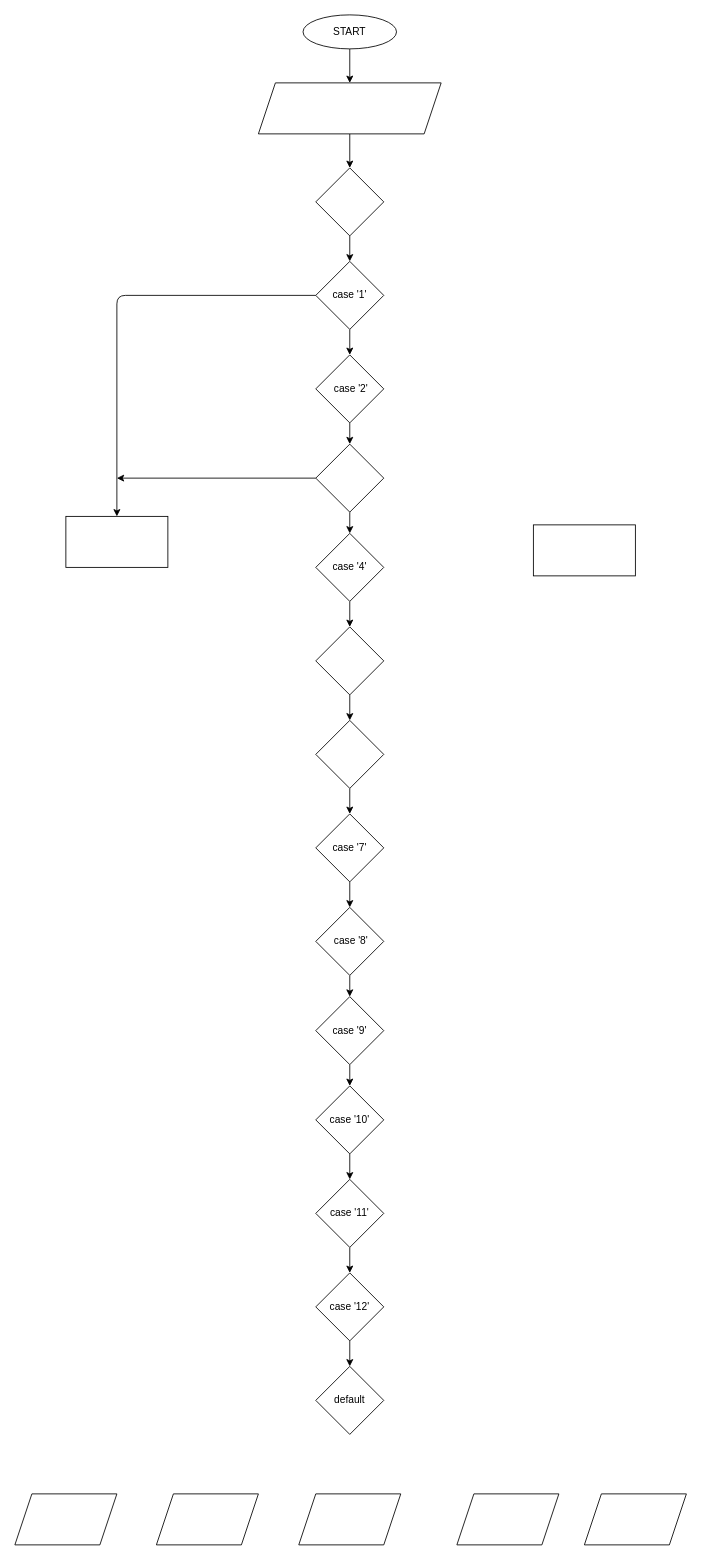
Some shapes in this 701 by 1560 pixel diagram are drawn without their labels. Each missing label, with the centre of its shape:
"case '3'" goes at pixel 349 477.
"case '5'" goes at pixel 349 660.
"case '6'" goes at pixel 349 754.
"switch(m)" goes at pixel 349 201.
"y=input year m=input month d=input day" goes at pixel 349 108.
